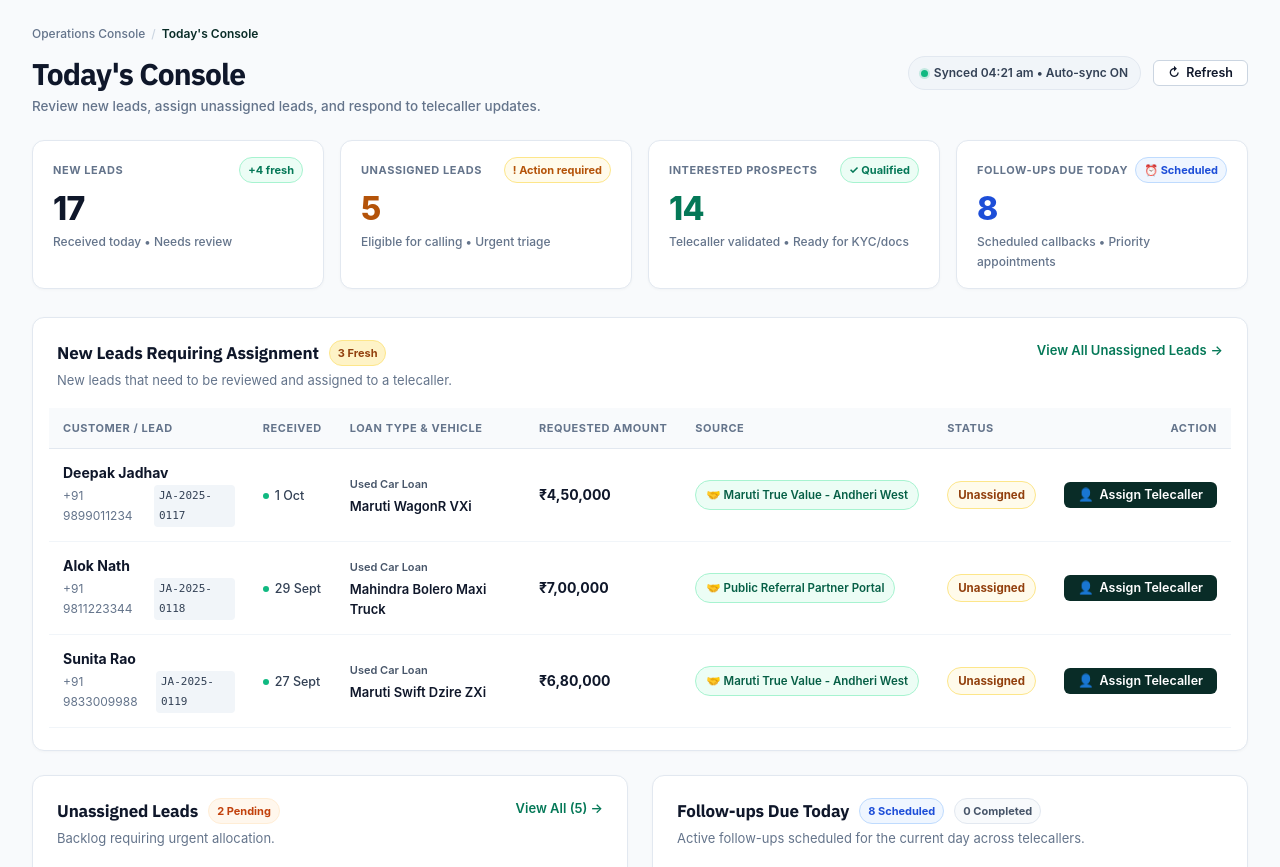
Scenario: Today's Console — Admin Operations Workflow Acceptance Tests › allows admin to open assignment modal and assign an unassigned lead to a telecaller
Expected: the heading "New Leads Requiring Assignment" is shown, left=57, top=342, right=319, bottom=364
Note: Click the first Assign Telecaller button
Click the button "👤 Assign Telecaller" in the row of "JA-2025-0117". click: (1140, 495)
box: left=1064, top=482, right=1217, bottom=508
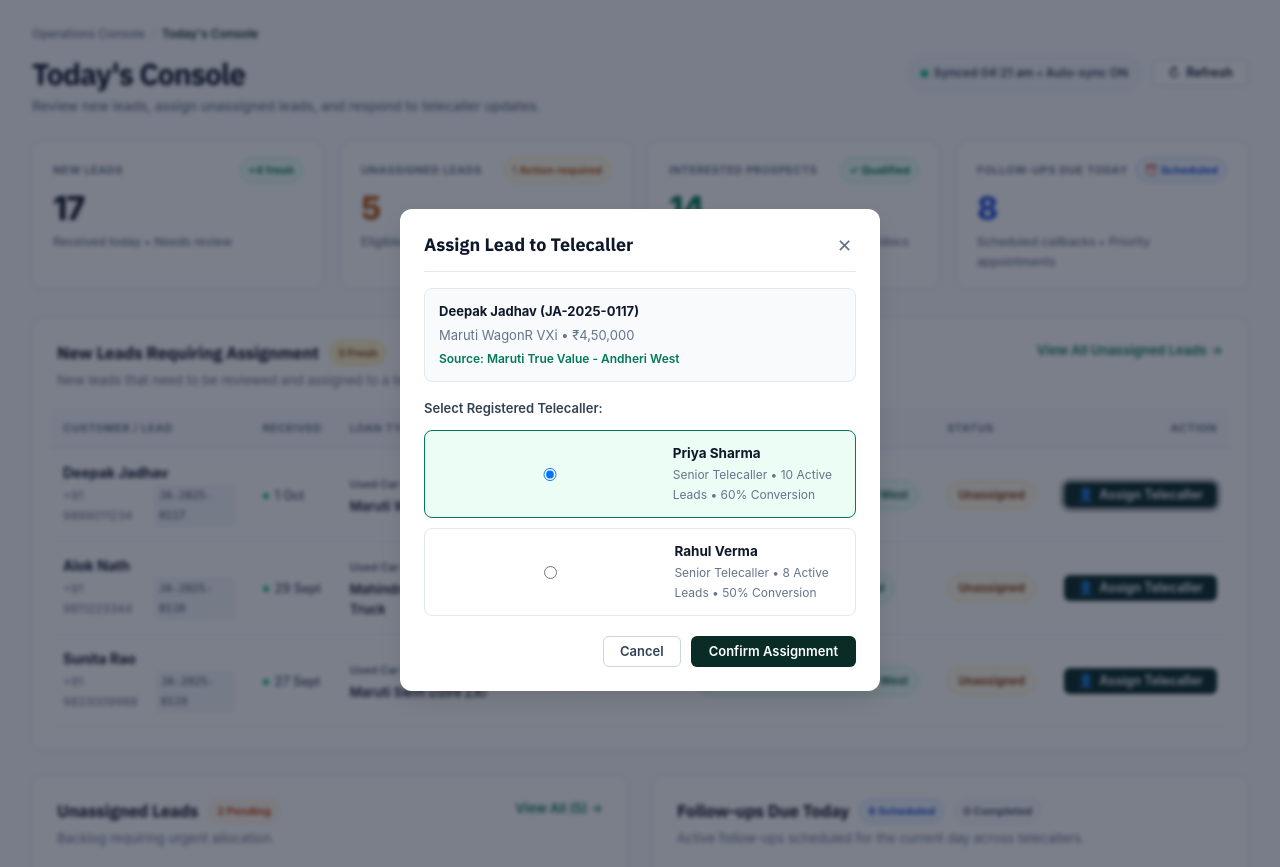
Expected: the heading "Assign Lead to Telecaller" is shown, left=424, top=233, right=633, bottom=256
Expected: the text "Select Registered Telecaller:" is shown, left=424, top=400, right=603, bottom=416
Expected: the text "Priya Sharma" is shown, left=673, top=445, right=760, bottom=461
Note: Select Rahul Verma
Click the text "Rahul Verma". click: (716, 551)
box: left=674, top=543, right=758, bottom=559
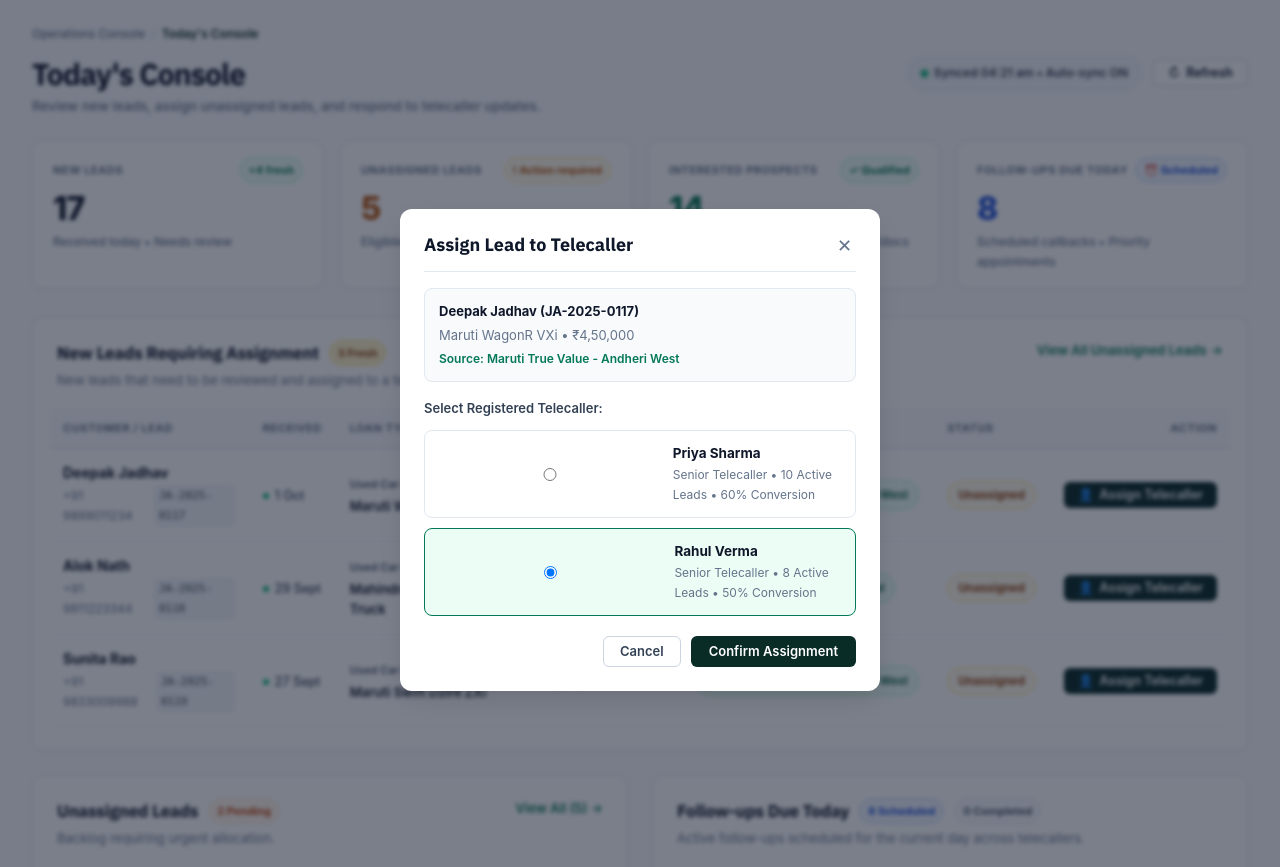
Note: Confirm assignment
Click the button "Confirm Assignment". click: (773, 652)
box: left=691, top=636, right=856, bottom=667
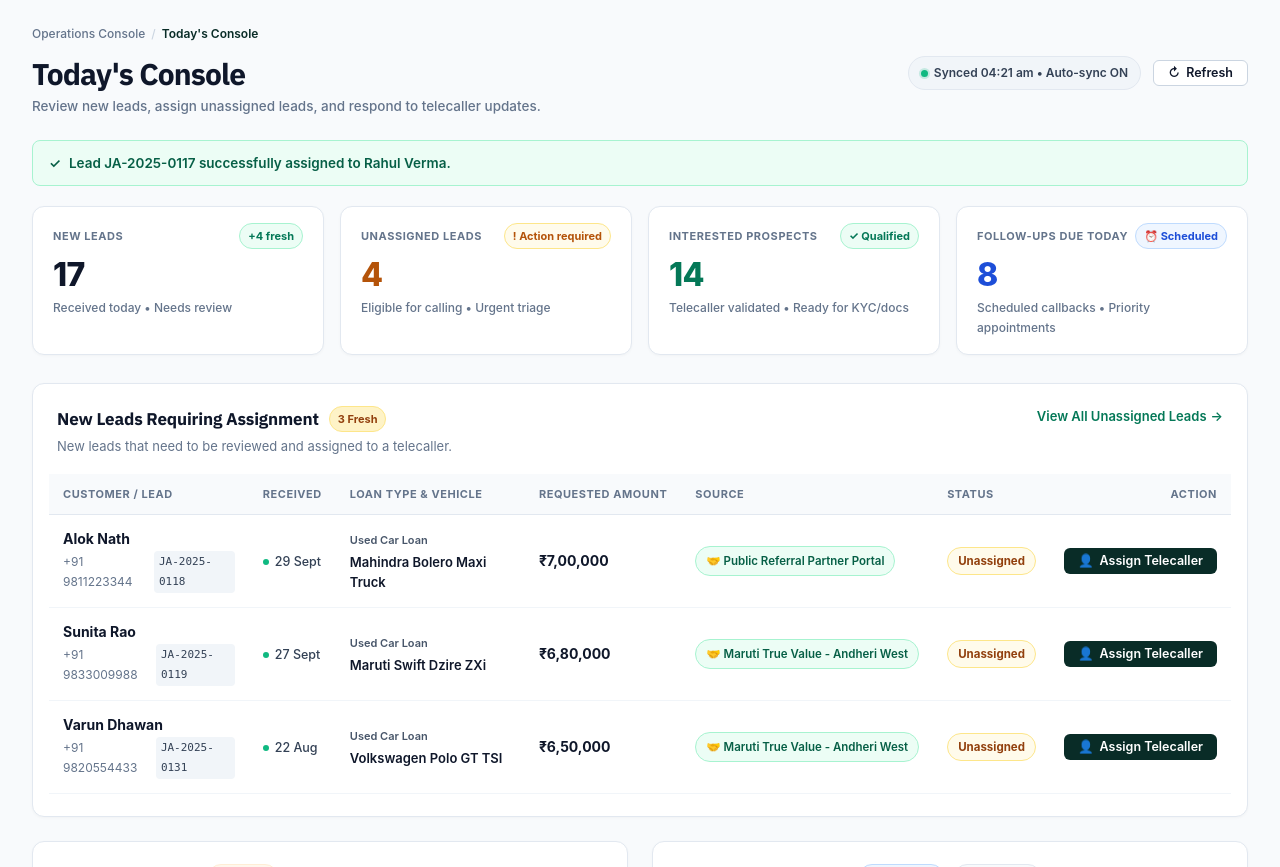
Expected: the text "Lead JA-2025-0117 successfully assigned to Rahul Verma." is shown, left=69, top=153, right=451, bottom=173
